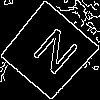N: (23, 25, 81, 84)
